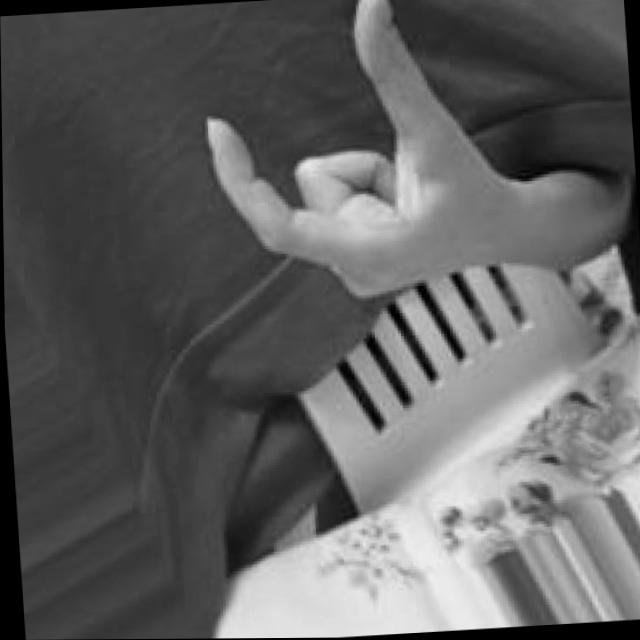U: (191, 0, 603, 311)
